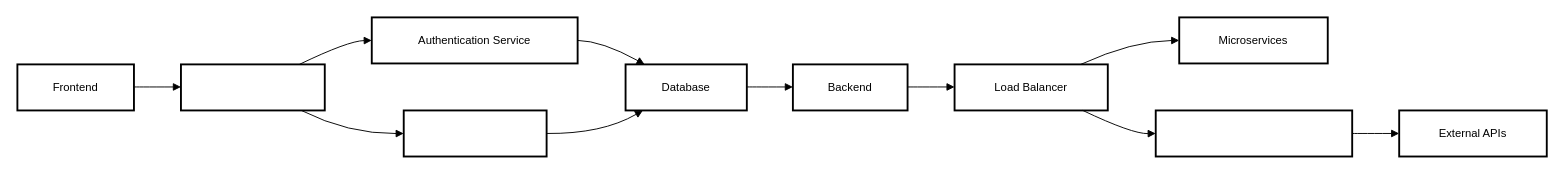
The diagram is 1563 pixels wide and 173 high, and some of its shapes have lost their labels. Here are the shapes that lost their labels. From the top down, the box of each, then its label:
(180, 63, 325, 111): API Gateway
(402, 109, 547, 157): User Service
(1154, 109, 1353, 157): Serverless Functions
